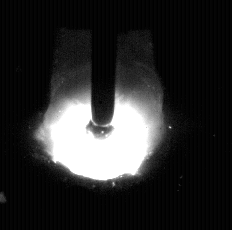arame: (91, 0, 116, 137)
poca: (35, 0, 167, 230)
